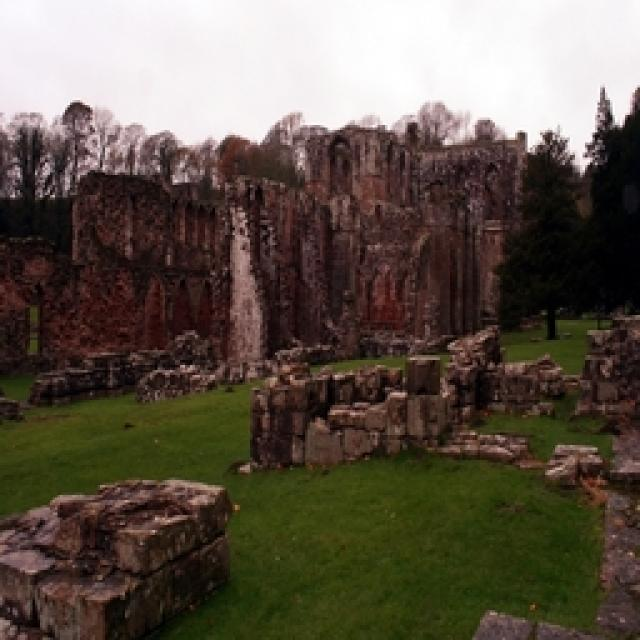Abbey: (1, 104, 536, 374)
